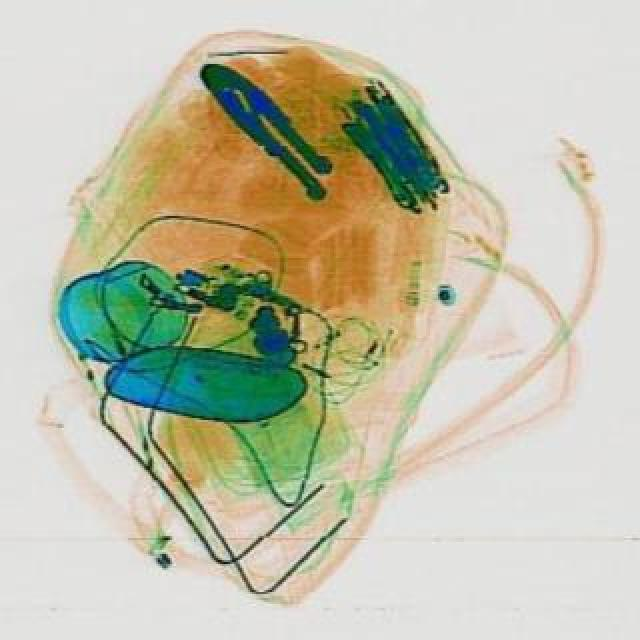wrench: (192, 54, 352, 212)
